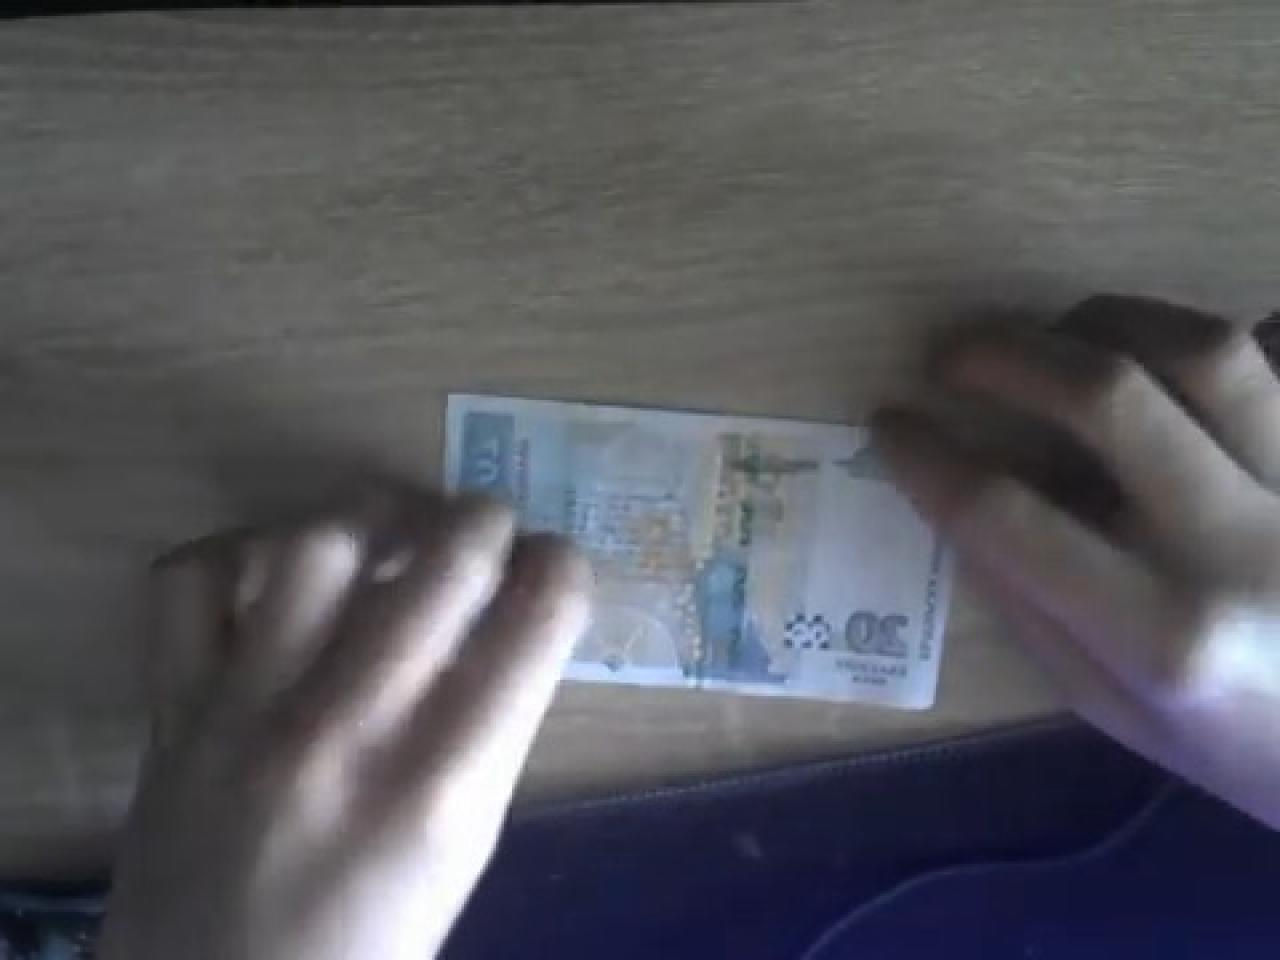20leva: (445, 387, 955, 709)
